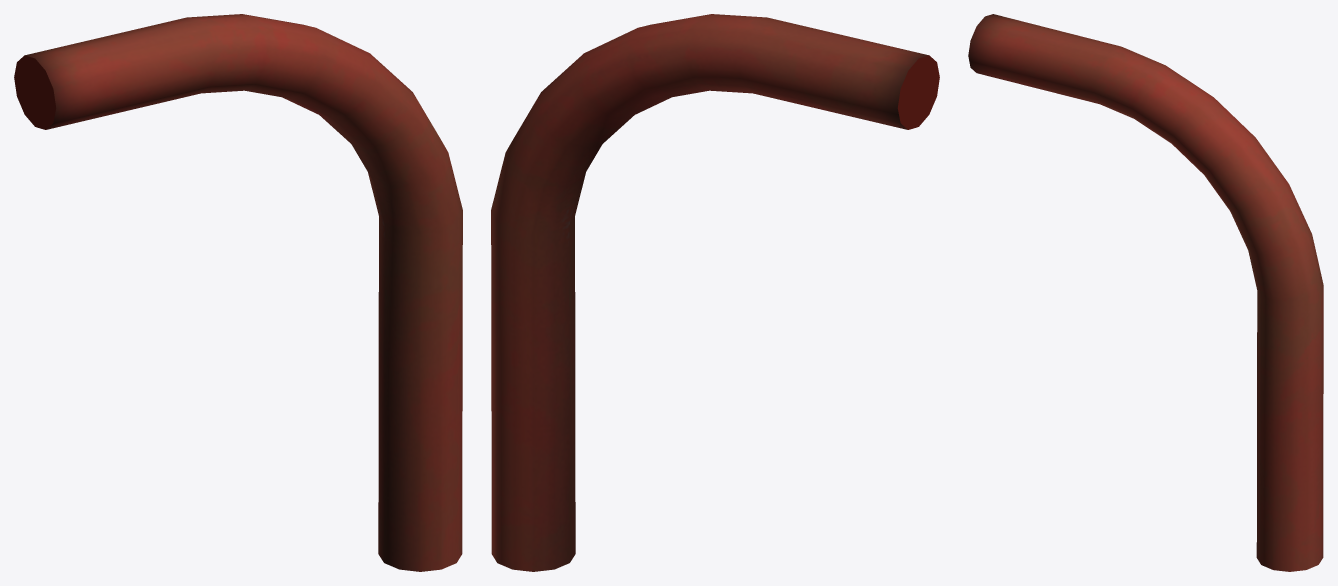
The model's file is extintor_manguera_sola.fbx.
3 views of the same model, side by side, from view 1: azimuth 30°, elevation 25°; view 2: azimuth 150°, elevation 25°; view 3: azimuth 330°, elevation 25° (orthographic). The views are drawn at different scales.
Parts seen in each view (by area): view 1: fire_extinguisher_c02; view 2: fire_extinguisher_c02; view 3: fire_extinguisher_c02.
Part boxes in pixels (<box>): fire_extinguisher_c02: <box>14,14,462,571</box>; fire_extinguisher_c02: <box>491,14,939,571</box>; fire_extinguisher_c02: <box>968,14,1323,571</box>.
Size of the model in its own units: 9.03 by 12.06 by 1.56.
1 material, 1 textured.
